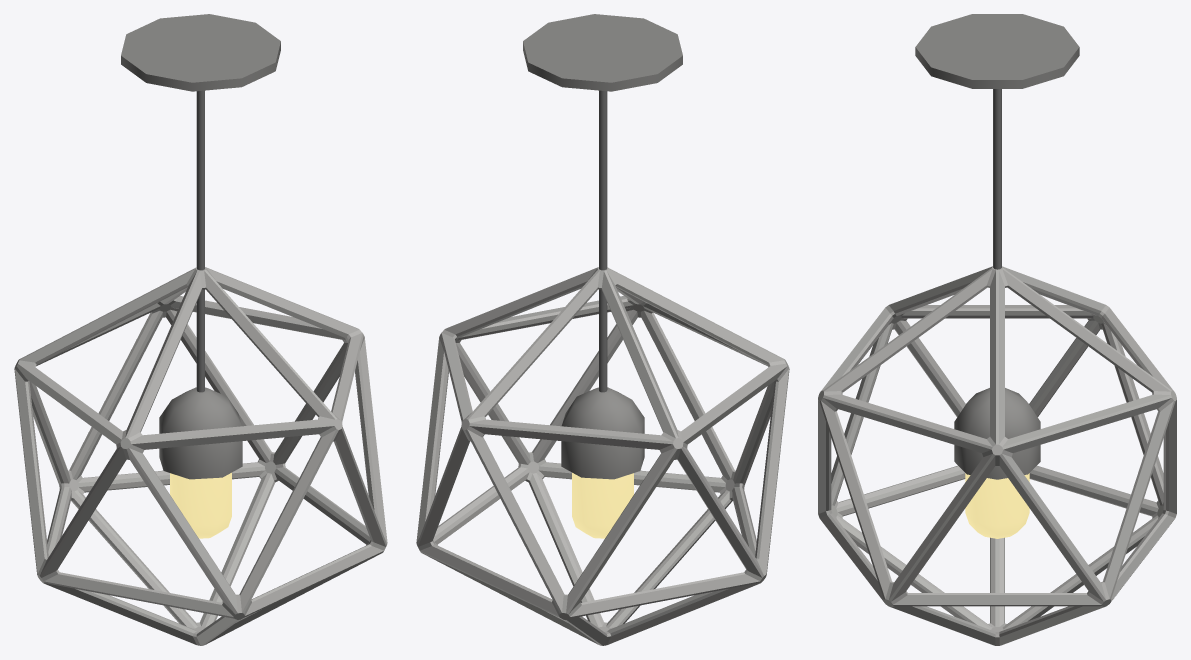
File: Light_Icosahedron.glb
3 views of the same model, side by side, from view 1: azimuth 30°, elevation 25°; view 2: azimuth 150°, elevation 25°; view 3: azimuth 270°, elevation 25° (orthographic).
Parts seen in each view (by area): view 1: Light_Icosahedron; view 2: Light_Icosahedron; view 3: Light_Icosahedron.
Part boxes in pixels (x1=…): Light_Icosahedron: x1=14, y1=14, x2=387, y2=645; Light_Icosahedron: x1=416, y1=14, x2=789, y2=645; Light_Icosahedron: x1=818, y1=14, x2=1176, y2=645.
Bounding box in the file's own units: 0.5021 × 0.8798 × 0.4793.
